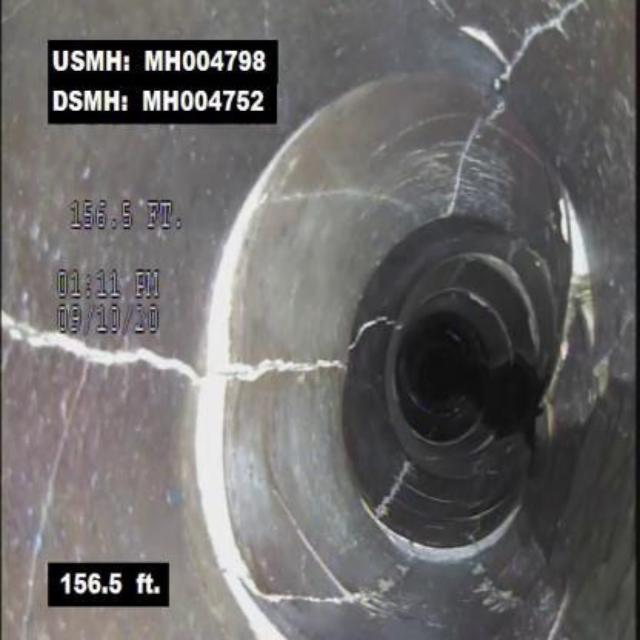Buckling: (549, 185, 603, 380)
Crack: (8, 312, 191, 385), (449, 0, 600, 88), (275, 492, 354, 597), (452, 91, 509, 192), (260, 355, 338, 382)
Joint offset: (186, 200, 266, 357), (192, 389, 255, 586), (377, 514, 526, 562)
